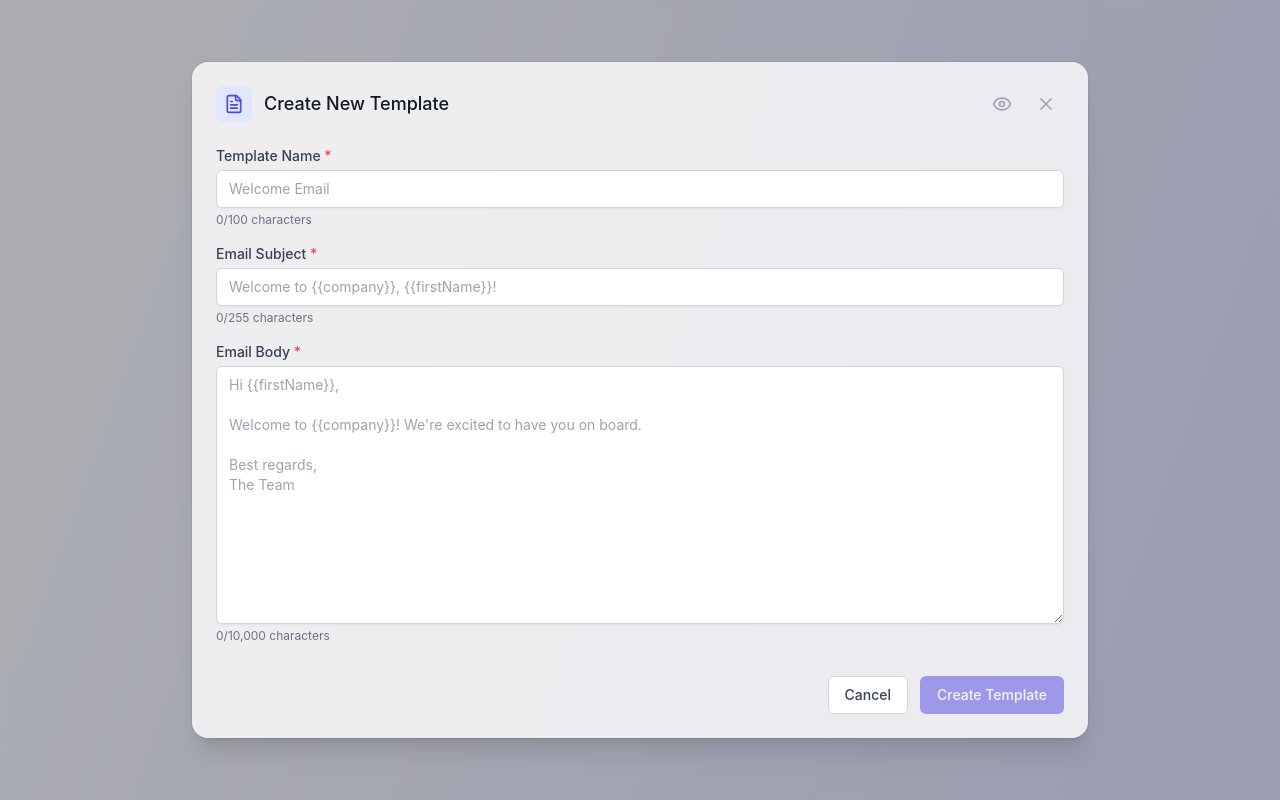
it: AddTemplateModal › Form Interaction › should hide preview when toggle is clicked again
Click the button titled "preview" at (1002, 104), box [984,86,1020,122]
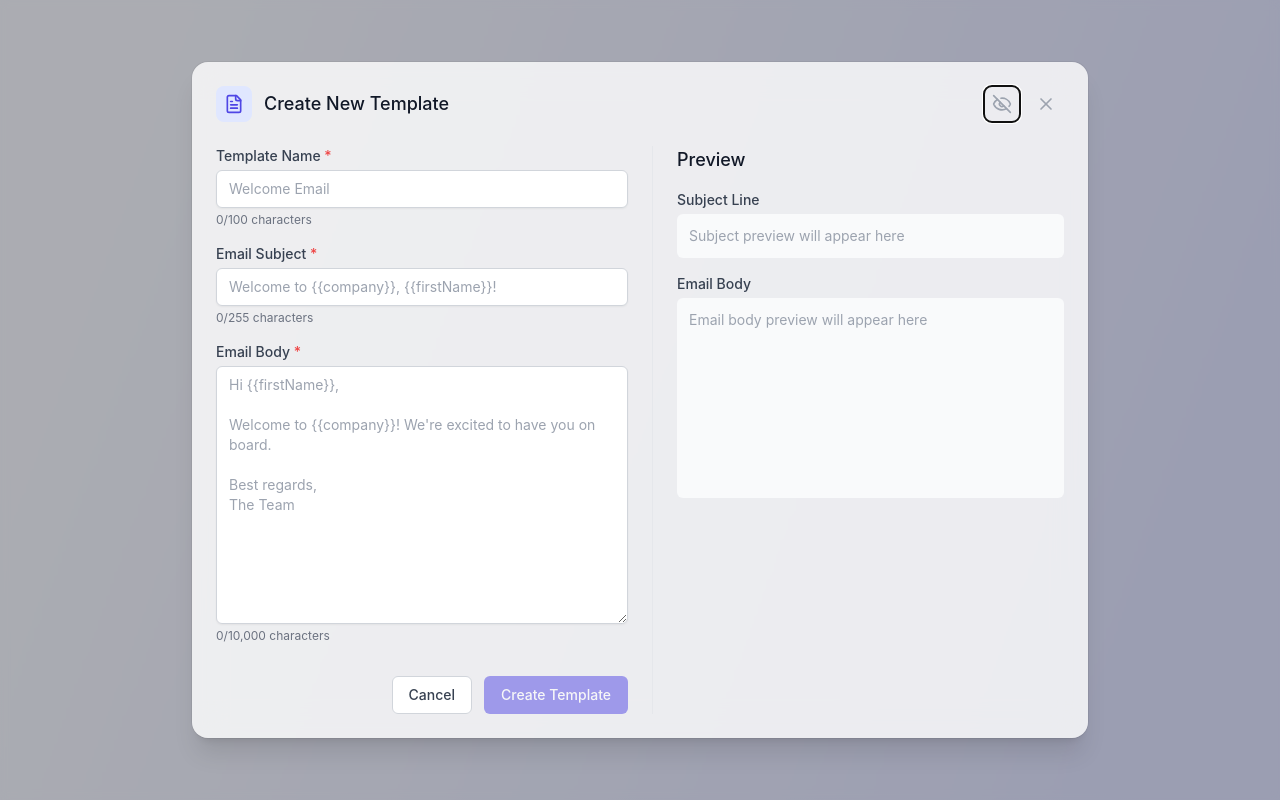
Note: Find the toggle again (it may change title to "Hide preview")
Click the button titled "hide preview" at (1002, 104), box [984,86,1020,122]
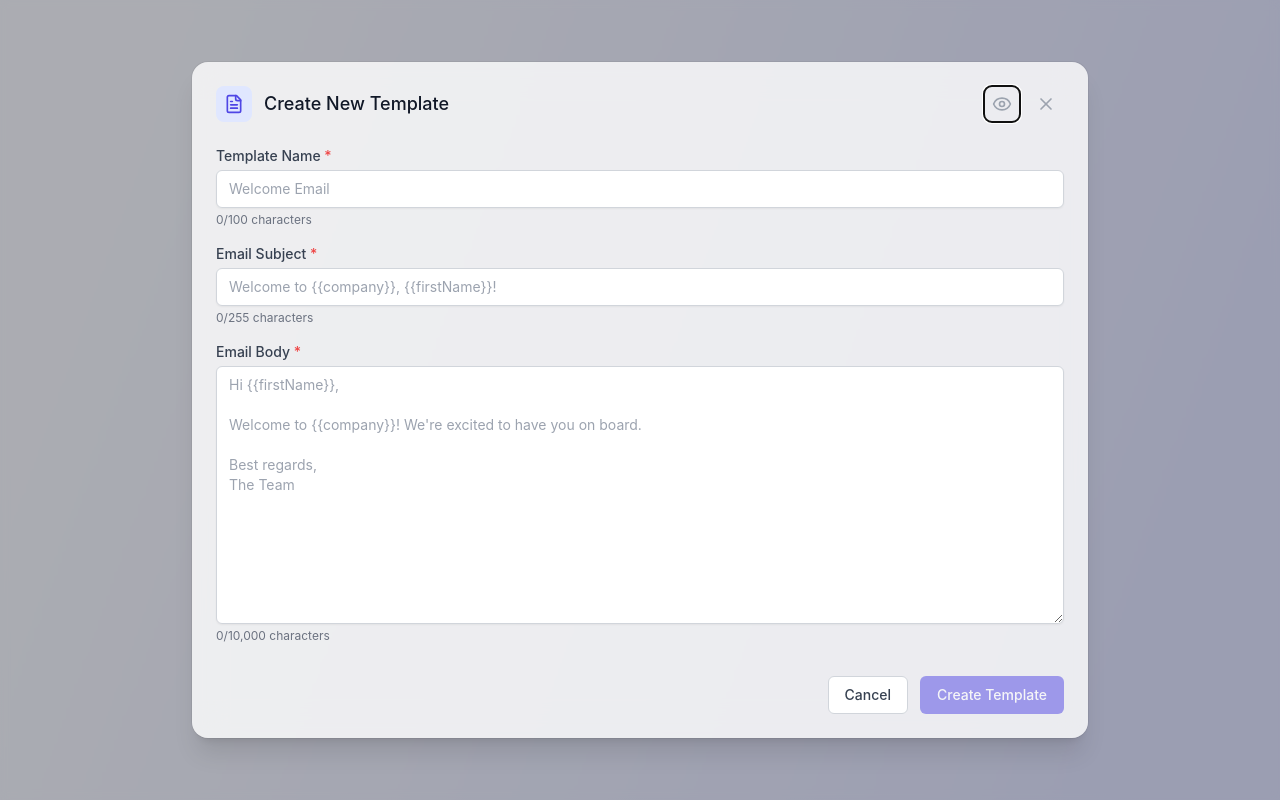
Expected: the heading "Preview" is gone
